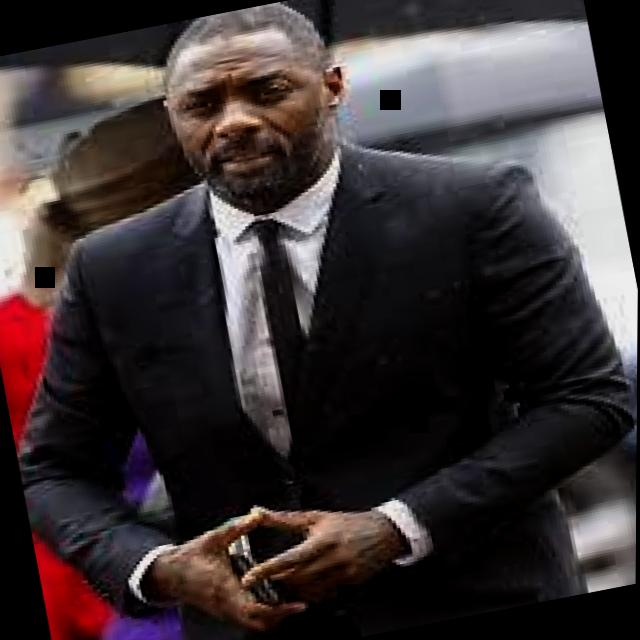NO-Mask: (160, 15, 345, 217)
